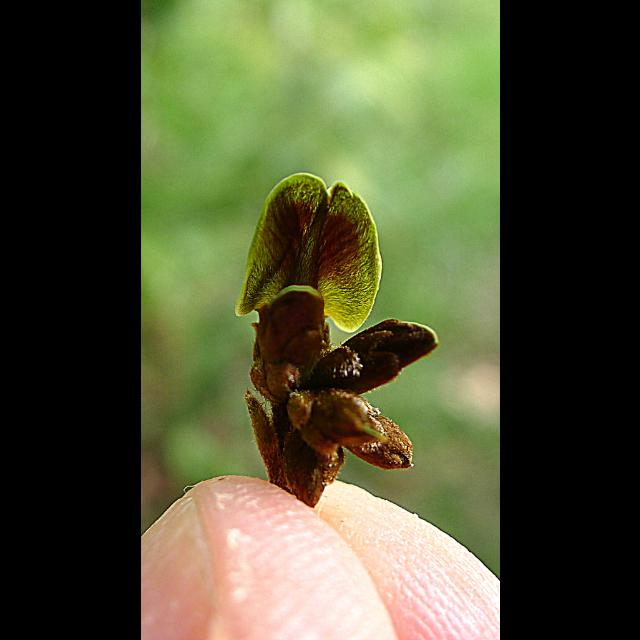Flower: (236, 178, 378, 352)
